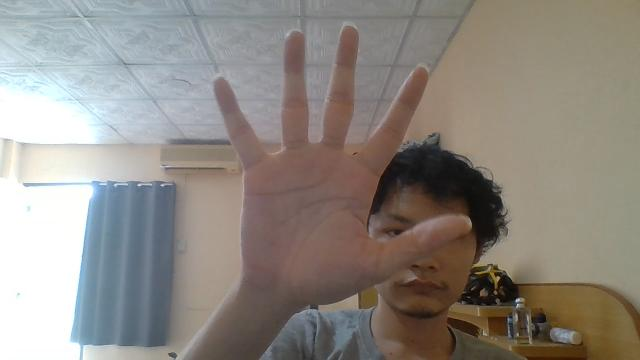Stop: (211, 23, 474, 307)
